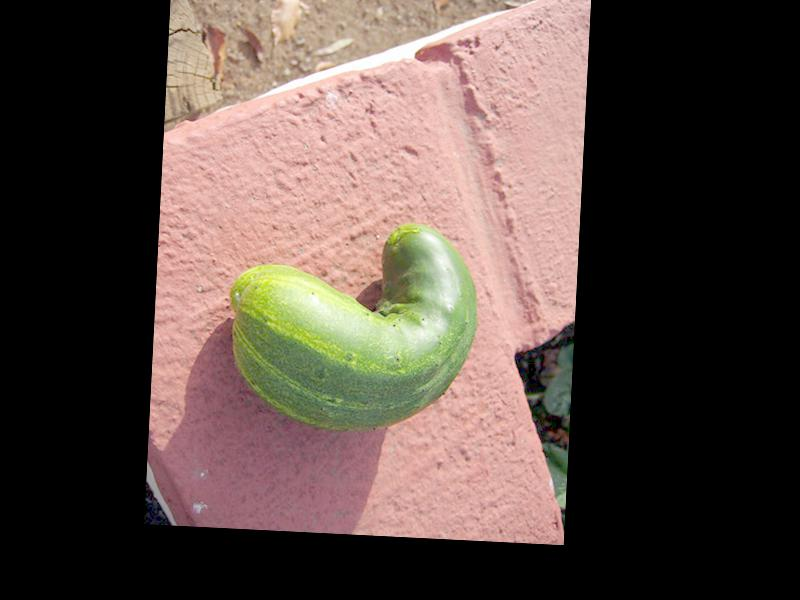Cucumber: (225, 212, 481, 435)
